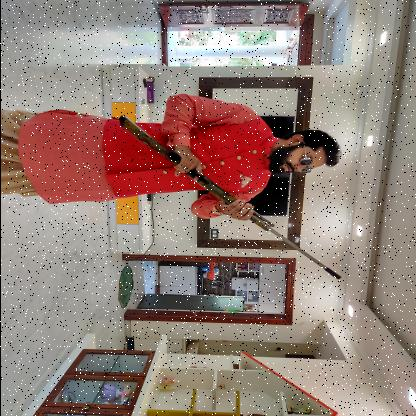rifle: (116, 113, 342, 282)
